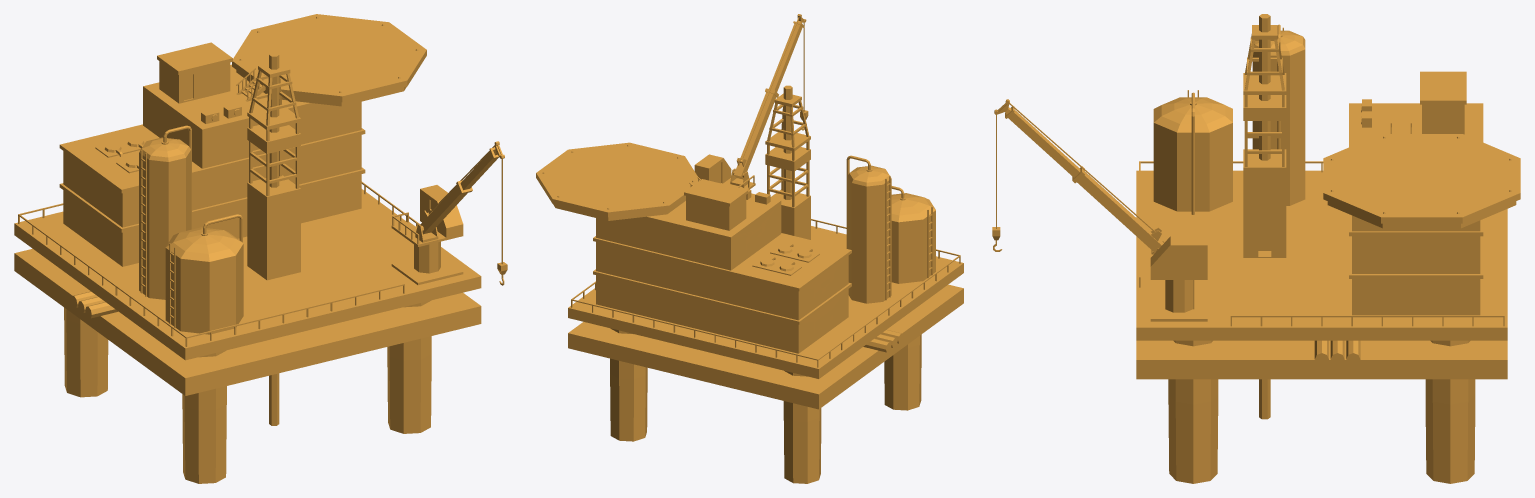
The model's file is sea-refinery.glb.
3 views of the same model, side by side, from view 1: azimuth 30°, elevation 25°; view 2: azimuth 150°, elevation 25°; view 3: azimuth 270°, elevation 25° (orthographic). The views are drawn at different scales.
Parts seen in each view (by area): view 1: sea-refinery; view 2: sea-refinery; view 3: sea-refinery.
Part boxes in pixels (x1,y1,x2,y2): sea-refinery: [14, 14, 507, 483]; sea-refinery: [536, 14, 963, 483]; sea-refinery: [992, 14, 1520, 483].
Size of the model in its own units: 32.11 by 31.16 by 36.98.
